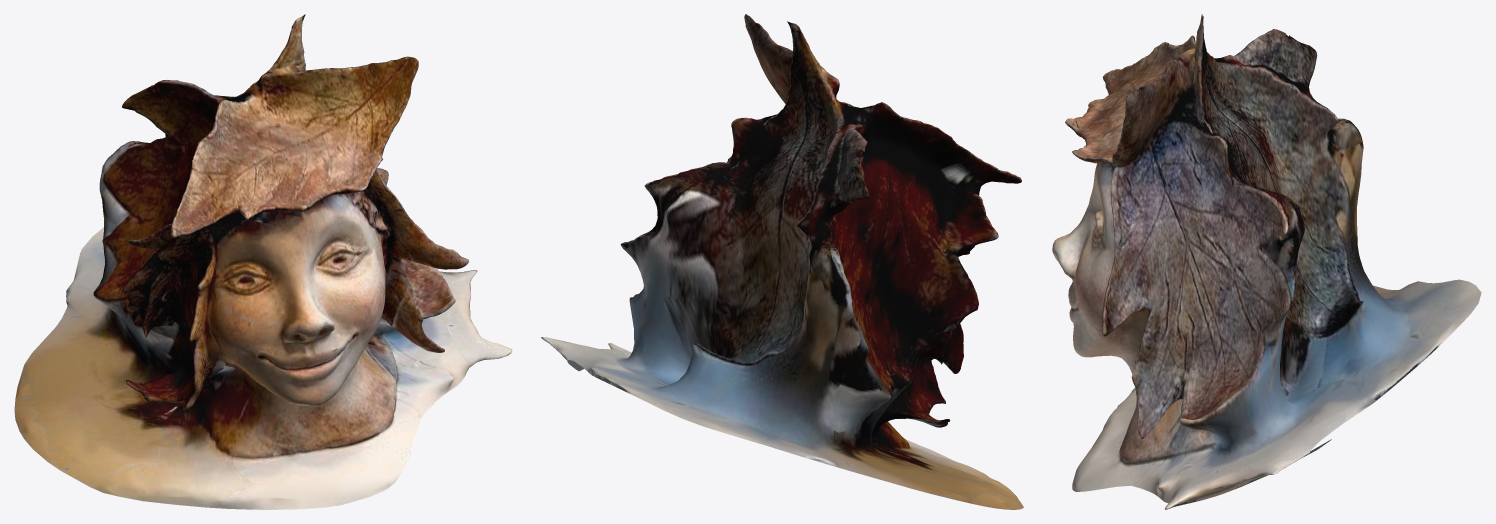
Rendered from jolyHead2.glb.
The picture shows the model from 3 angles, left to right: view 1: azimuth 30°, elevation 25°; view 2: azimuth 150°, elevation 25°; view 3: azimuth 270°, elevation 25°; orthographic projection. The views are drawn at different scales.
Visible parts, largest first — view 1: jolyHead; view 2: jolyHead; view 3: jolyHead.
Boxes of the visible parts, x1,y1,x2,y2 form: jolyHead: (14,14,512,509); jolyHead: (541,14,1023,509); jolyHead: (1052,14,1481,509).
Bounding box in the file's own units: 20.98 × 19.48 × 16.13.
2 materials, 2 textured.
